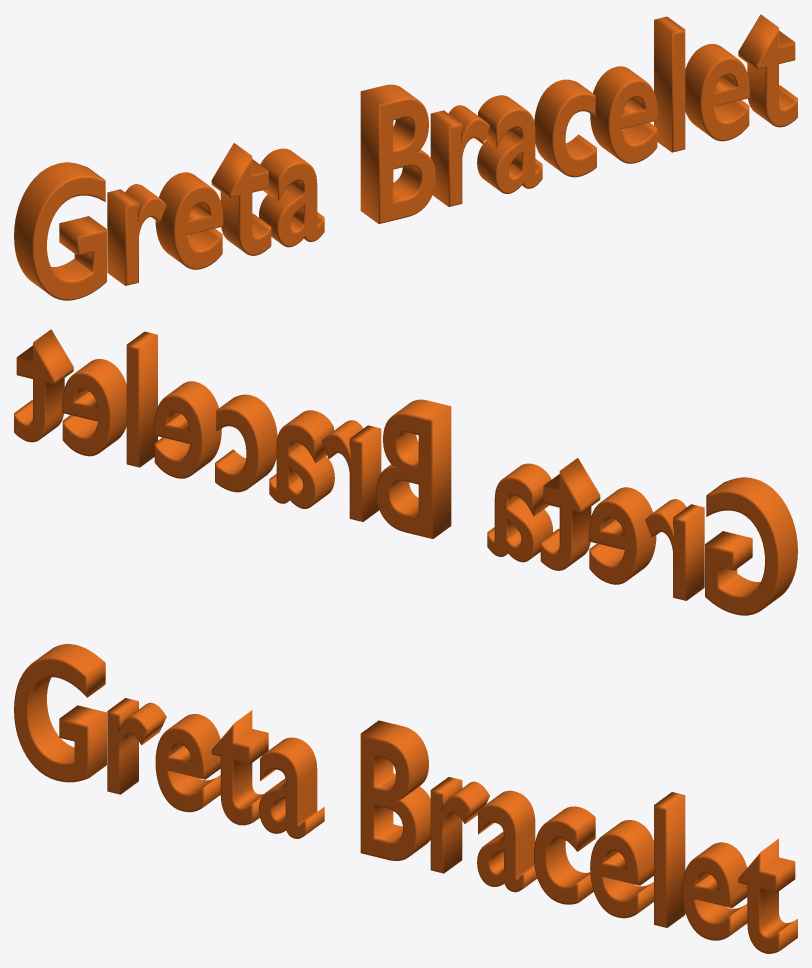
Rendered from JPI001.glb.
3 views of the same model, one above another, from view 1: azimuth 30°, elevation 25°; view 2: azimuth 150°, elevation 25°; view 3: azimuth 330°, elevation 25° (orthographic).
Visible parts, largest first — view 1: Text; view 2: Text; view 3: Text.
Part boxes in pixels (<box>): Text: <box>14,14,797,300</box>; Text: <box>14,329,797,615</box>; Text: <box>14,644,797,953</box>.
Bounding box in the file's own units: 9.96 × 1.53 × 0.44.
